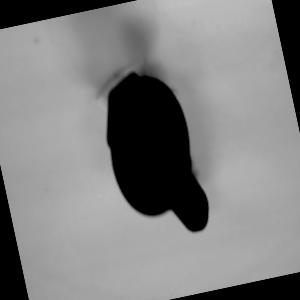parafuso: (90, 62, 215, 248), (91, 61, 215, 247)
